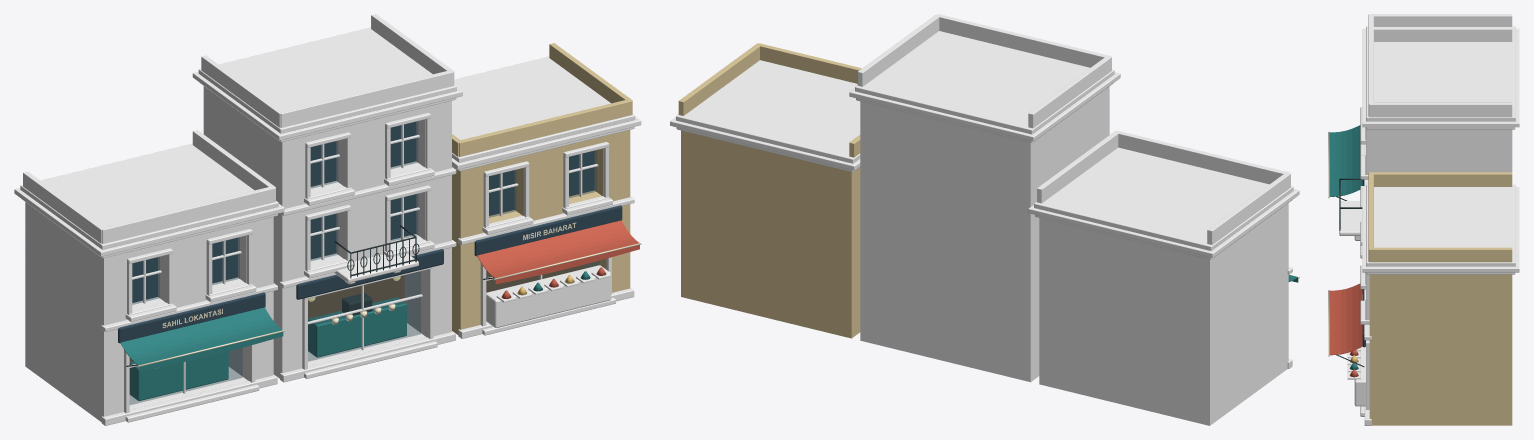
Rendered from DistrictBlock_2_0.glb.
The picture shows the model from 3 angles, left to right: view 1: azimuth 30°, elevation 25°; view 2: azimuth 150°, elevation 25°; view 3: azimuth 270°, elevation 25°; orthographic projection. The views are drawn at different scales.
Visible parts, largest first — view 1: RK_DistrictBlock_2_0_LC_Lime, RK_DistrictBlock_2_0_LC_Brick, RK_DistrictBlock_2_0_LC_Coral, RK_DistrictBlock_2_0_LC_Ochre, RK_DistrictBlock_2_0_LC_Ink, RK_DistrictBlock_2_0_LC_Glass, RK_DistrictBlock_2_0_LC_Teal, RK_DistrictBlock_2_0_LC_Wood, RK_DistrictBlock_2_0_LC_Red, RK_DistrictBlock_2_0_LC_Interior, RK_DistrictBlock_2_0_LC_Iron, RK_DistrictBlock_2_0_LC_Canvas; view 2: RK_DistrictBlock_2_0_LC_Brick, RK_DistrictBlock_2_0_LC_Coral, RK_DistrictBlock_2_0_LC_Lime, RK_DistrictBlock_2_0_LC_Ochre; view 3: RK_DistrictBlock_2_0_LC_Ochre, RK_DistrictBlock_2_0_LC_Lime, RK_DistrictBlock_2_0_LC_Brick, RK_DistrictBlock_2_0_LC_Red, RK_DistrictBlock_2_0_LC_Teal, RK_DistrictBlock_2_0_LC_Coral, RK_DistrictBlock_2_0_LC_Wood, RK_DistrictBlock_2_0_LC_Canvas, RK_DistrictBlock_2_0_LC_Iron.
Part boxes in pixels (x1,y1,x2,y2): RK_DistrictBlock_2_0_LC_Lime: (14,27,641,425); RK_DistrictBlock_2_0_LC_Brick: (201,14,454,378); RK_DistrictBlock_2_0_LC_Coral: (23,130,275,421); RK_DistrictBlock_2_0_LC_Ochre: (452,43,632,334); RK_DistrictBlock_2_0_LC_Ink: (118,122,622,343); RK_DistrictBlock_2_0_LC_Glass: (130,121,598,404); RK_DistrictBlock_2_0_LC_Teal: (120,271,590,400); RK_DistrictBlock_2_0_LC_Wood: (129,124,610,409); RK_DistrictBlock_2_0_LC_Red: (477,220,639,298); RK_DistrictBlock_2_0_LC_Interior: (129,265,582,361); RK_DistrictBlock_2_0_LC_Iron: (126,225,494,366); RK_DistrictBlock_2_0_LC_Canvas: (137,222,641,368); RK_DistrictBlock_2_0_LC_Brick: (857,14,1111,382); RK_DistrictBlock_2_0_LC_Coral: (1037,130,1290,425); RK_DistrictBlock_2_0_LC_Lime: (670,31,1299,368); RK_DistrictBlock_2_0_LC_Ochre: (678,43,861,338); RK_DistrictBlock_2_0_LC_Ochre: (1368,172,1512,425); RK_DistrictBlock_2_0_LC_Lime: (1339,26,1519,425); RK_DistrictBlock_2_0_LC_Brick: (1368,27,1512,172); RK_DistrictBlock_2_0_LC_Red: (1329,283,1362,377); RK_DistrictBlock_2_0_LC_Teal: (1329,125,1362,369); RK_DistrictBlock_2_0_LC_Coral: (1368,14,1512,27); RK_DistrictBlock_2_0_LC_Wood: (1354,346,1365,406); RK_DistrictBlock_2_0_LC_Canvas: (1328,132,1362,356); RK_DistrictBlock_2_0_LC_Iron: (1336,178,1364,366).
Bounding box in the file's own units: 19.1 × 9.02 × 6.44.
